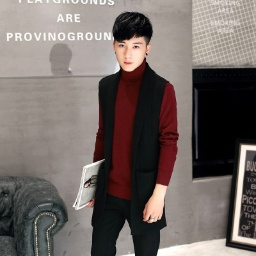face: (109, 11, 155, 72)
